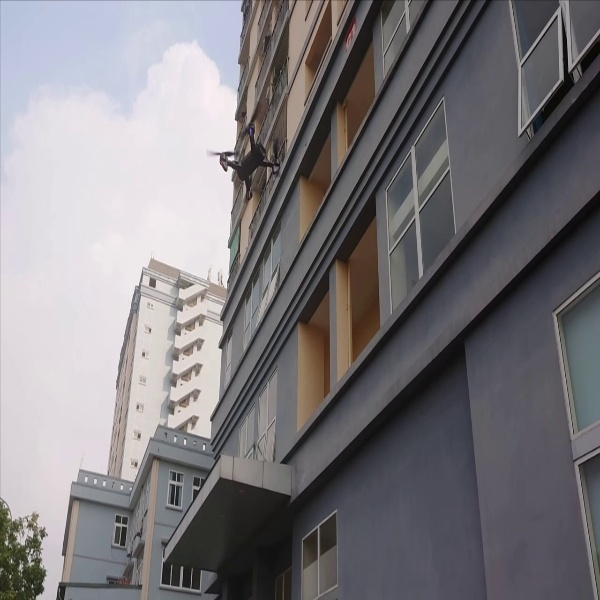drone: (206, 110, 287, 206)
